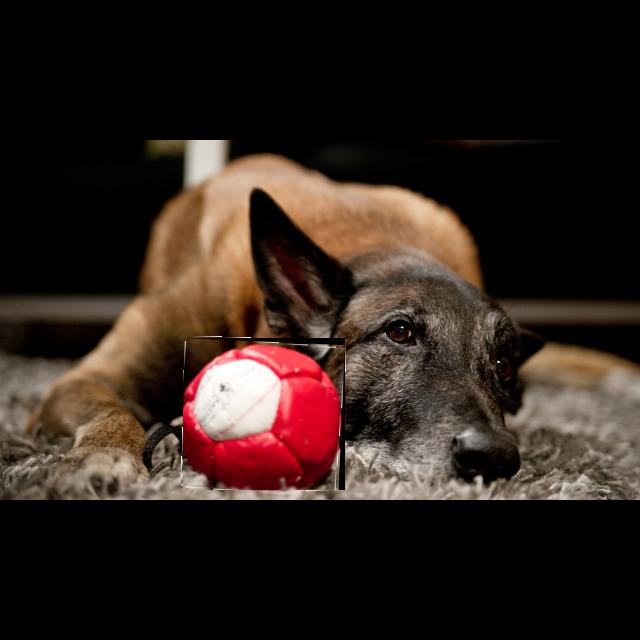Football: (183, 338, 345, 490)
